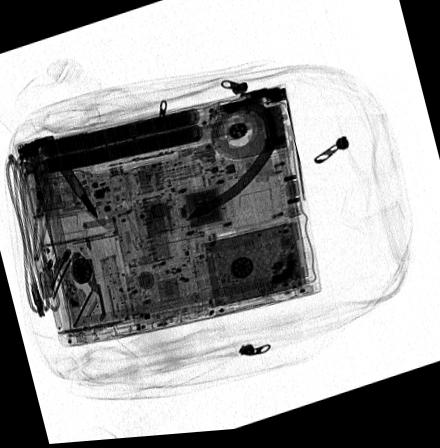Bullet: (49, 154, 99, 222)
